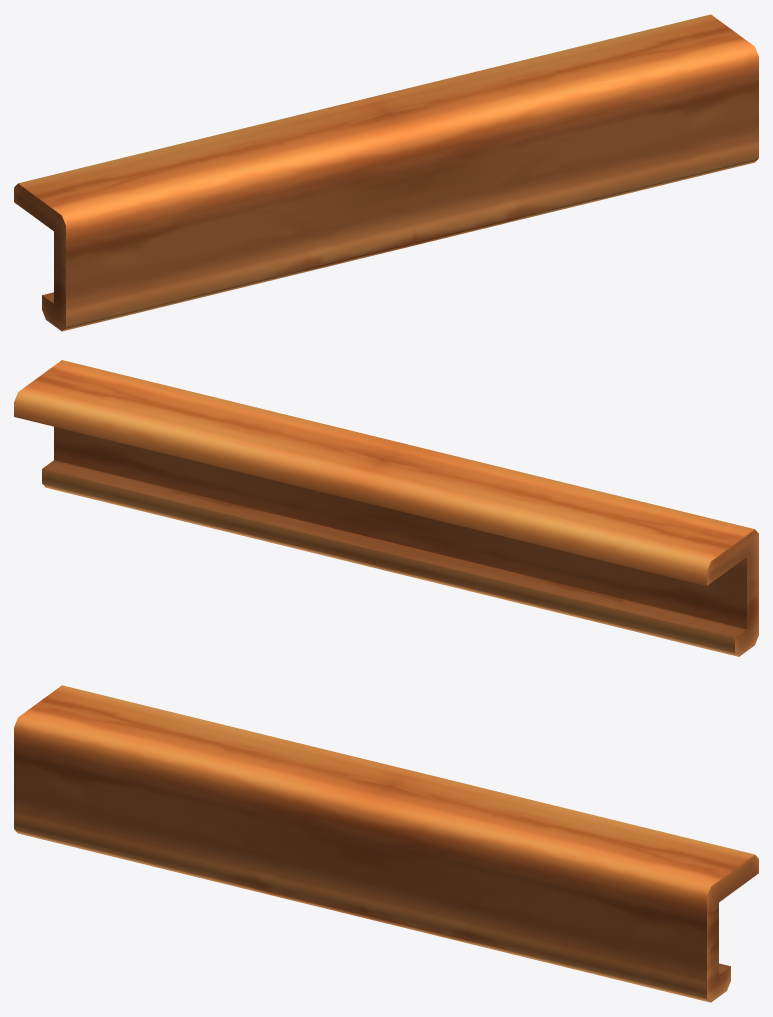
File: PropStairs01PTypeC1.FBX
3 views of the same model, one above another, from view 1: azimuth 30°, elevation 25°; view 2: azimuth 150°, elevation 25°; view 3: azimuth 330°, elevation 25° (orthographic).
Visible parts, largest first — view 1: PropStairs01PTypeC1; view 2: PropStairs01PTypeC1; view 3: PropStairs01PTypeC1.
Part boxes in pixels (left/top/right/bottom): PropStairs01PTypeC1: left=14, top=14, right=758, bottom=331; PropStairs01PTypeC1: left=14, top=360, right=758, bottom=656; PropStairs01PTypeC1: left=14, top=685, right=758, bottom=1002.
Size of what is drawn, in the model's own units: 1 by 0.16 by 0.1303.
